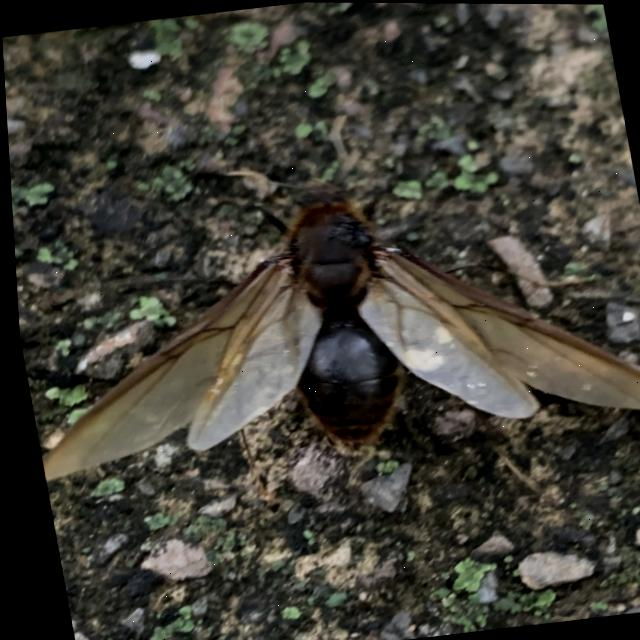Alive-Male-Alate: (6, 133, 640, 485)
